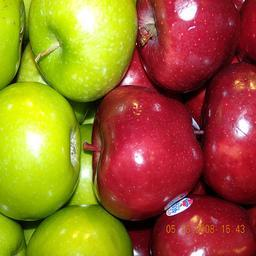apple: (92, 87, 206, 226), (28, 1, 137, 103), (1, 81, 78, 220), (135, 1, 247, 96), (137, 1, 240, 94), (197, 70, 255, 213), (148, 192, 255, 254), (25, 205, 133, 255), (235, 1, 255, 61)
